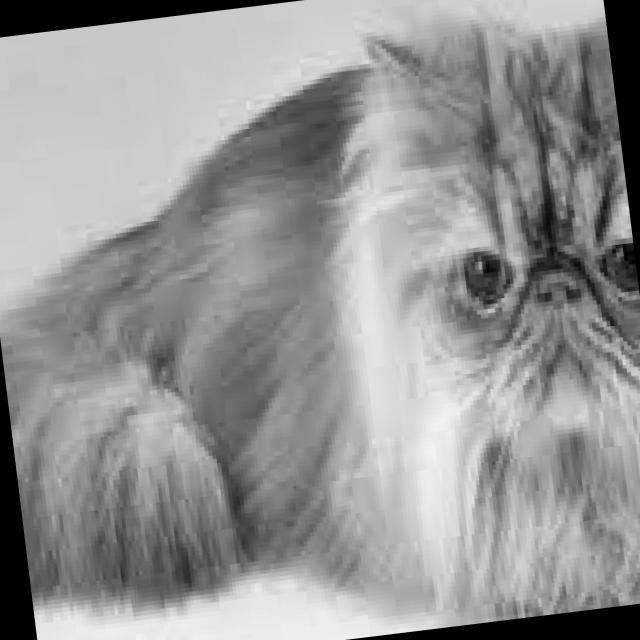iran: (334, 0, 640, 486)
